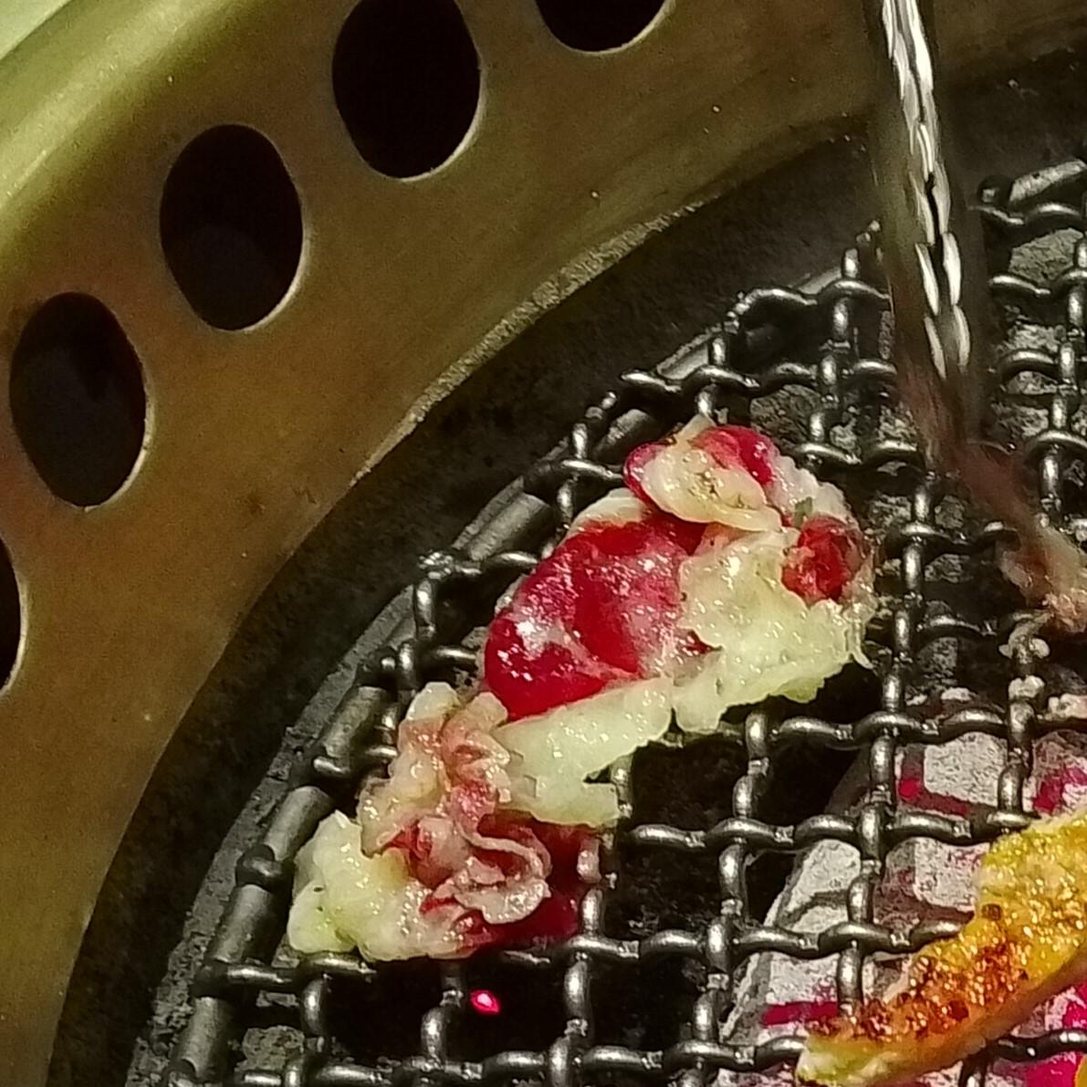Undercooked: (288, 410, 875, 960)
